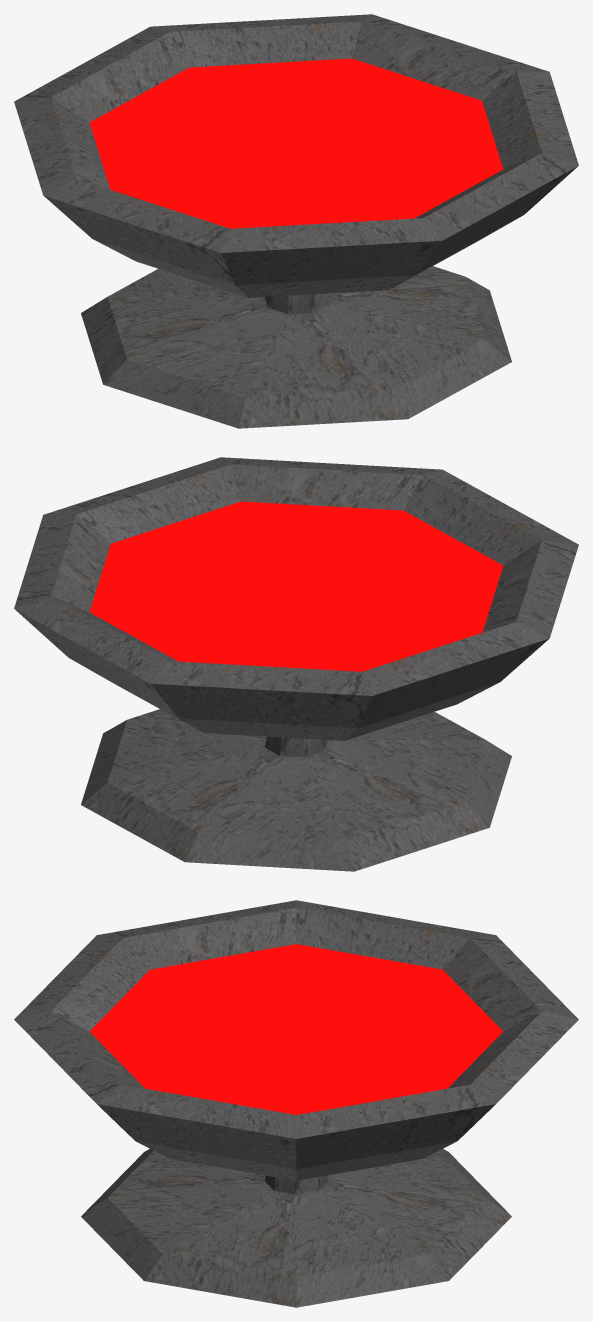
The model's file is fountain.glb.
3 views of the same model, one above another, from view 1: azimuth 30°, elevation 25°; view 2: azimuth 150°, elevation 25°; view 3: azimuth 270°, elevation 25° (orthographic). The views are drawn at different scales.
Parts seen in each view (by area): view 1: Cylinder; view 2: Cylinder; view 3: Cylinder.
Boxes of the visible parts, x1,y1,x2,y2 form: Cylinder: (14, 14, 578, 428); Cylinder: (14, 457, 578, 871); Cylinder: (14, 900, 578, 1307).
Size of the model in its own units: 1.85 by 0.7424 by 1.85.
Materials: 2 (1 with a texture image).
